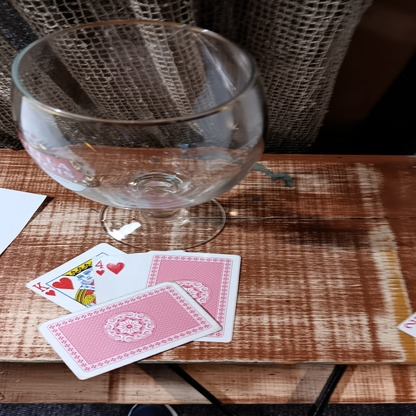4h: (94, 259, 105, 275)
Kh: (33, 279, 55, 299)
